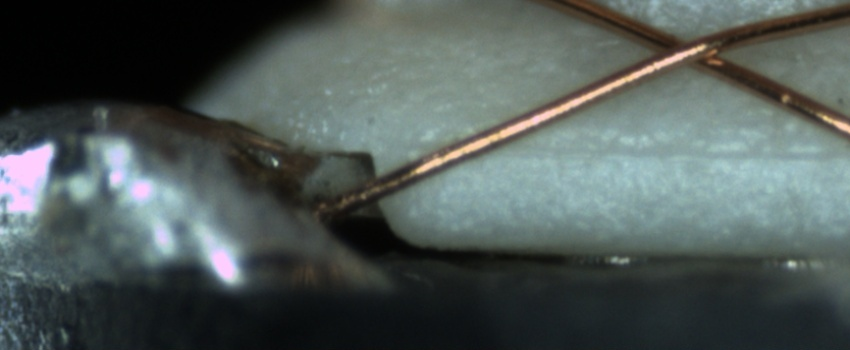CL: (628, 21, 748, 78)
DL: (403, 125, 850, 189)
